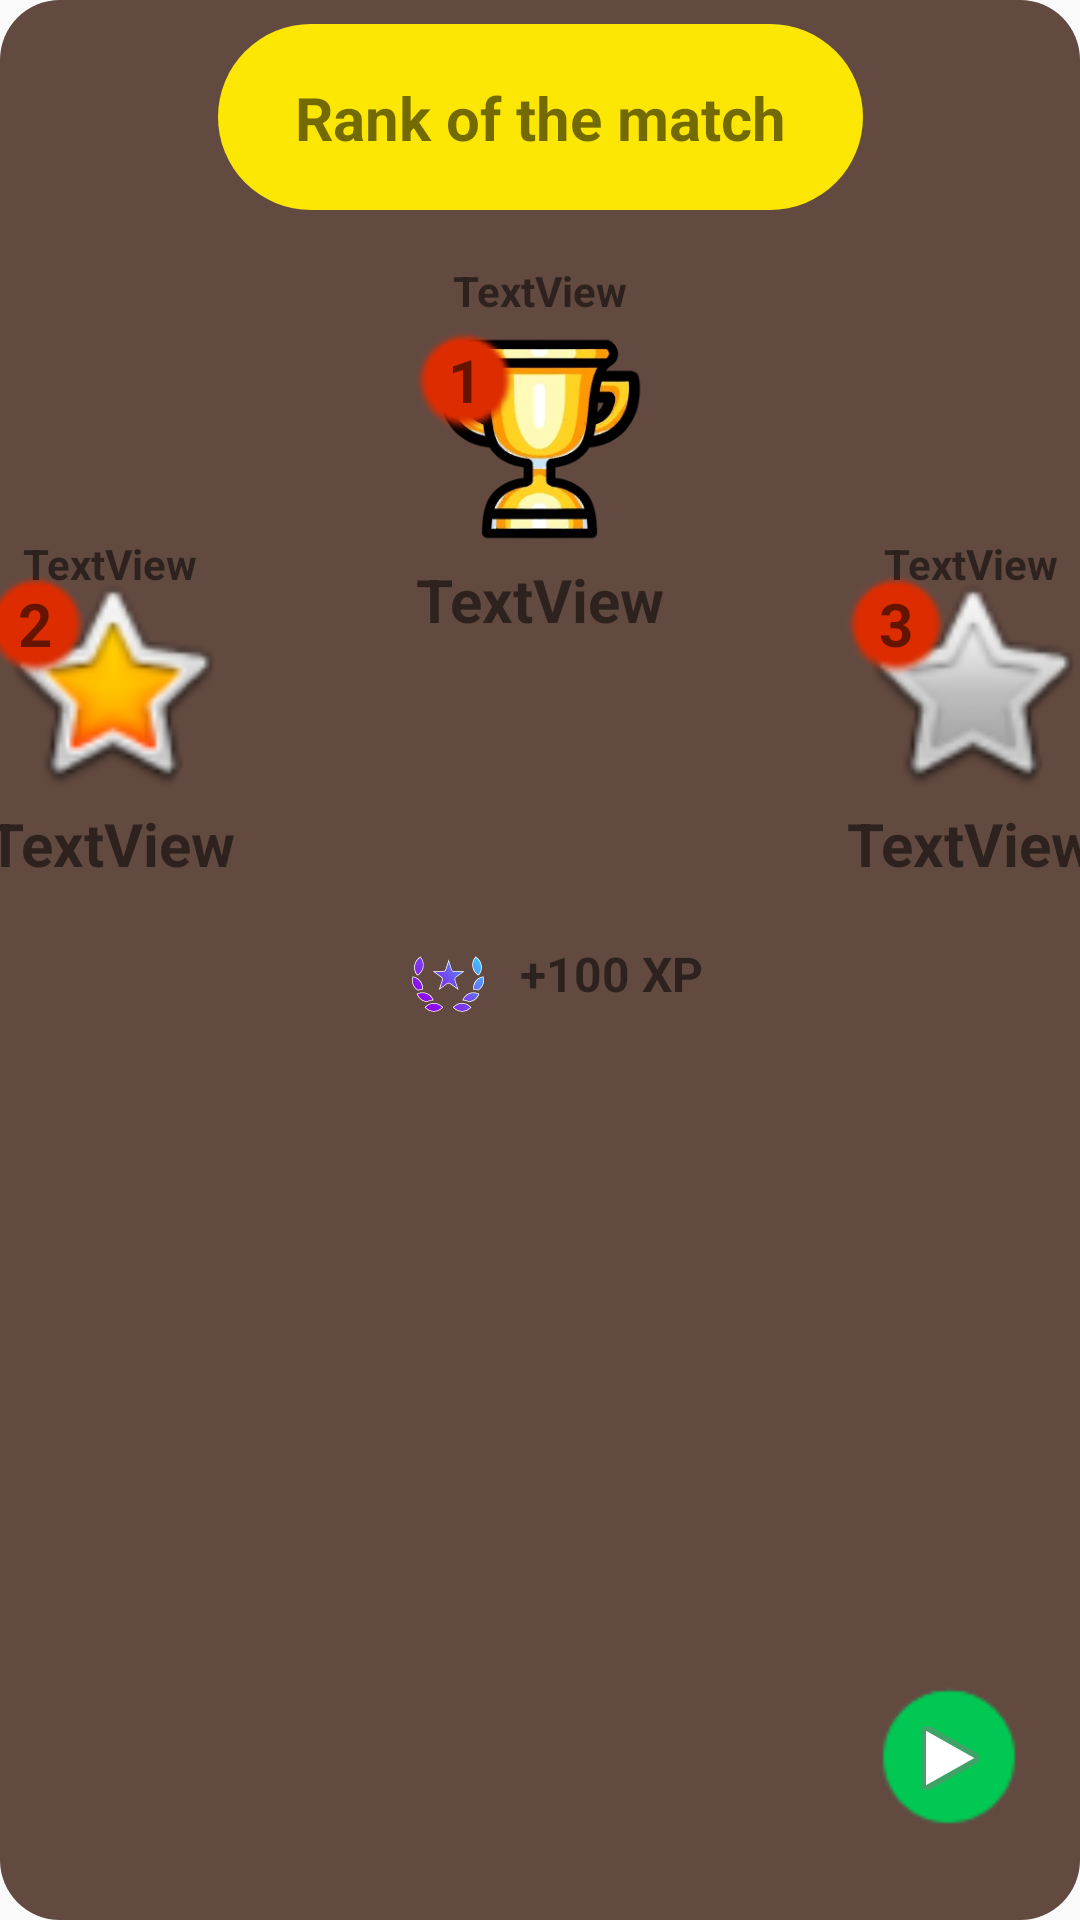

Locate icon controls on the screen. Image size 1080 x 1920, boxes as (x1, y1, x2, y2).
rank: (419, 334, 640, 539), (412, 956, 484, 1012)
star on: (0, 563, 208, 779)
